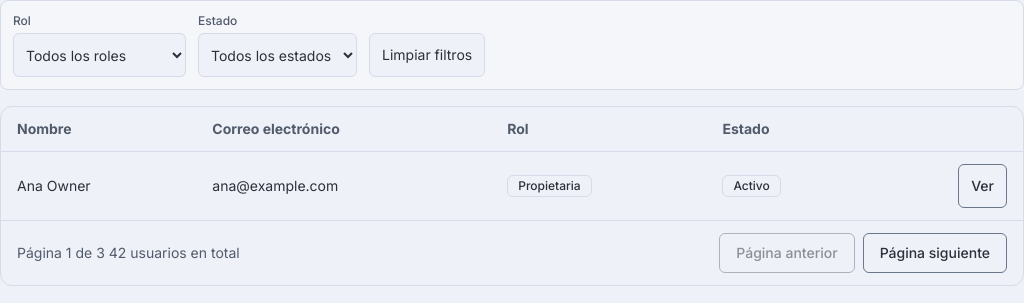
Test: UserList (R1.1, R1.2, R1.3) › pagination (R1.1) › advances the page on 'next' and re-asks useUsers with the new page param
Click the button "Página siguiente" at (935, 253), box [863,233,1007,273]
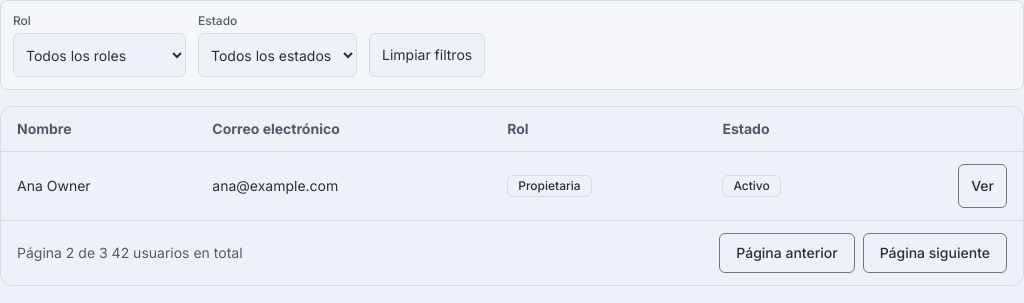
Expected: the text "Página 2 de 3 42 usuarios en total" is shown, [17,243,243,263]
Expected: the button "Página anterior" is enabled, [719,233,855,273]
